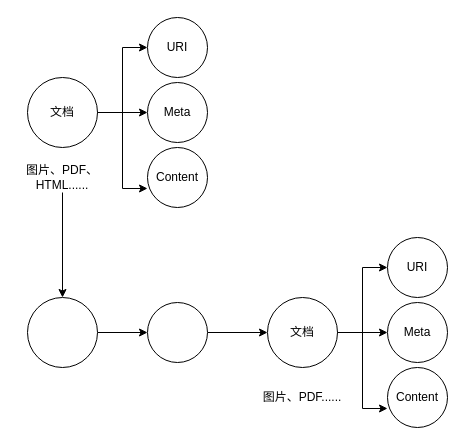
Some shapes in this 465 by 445 pixel diagram are drawn without their labels. Each missing label, with the box of its shape:
Text/URL: (146, 302, 208, 362)
二维码: (26, 296, 98, 368)
